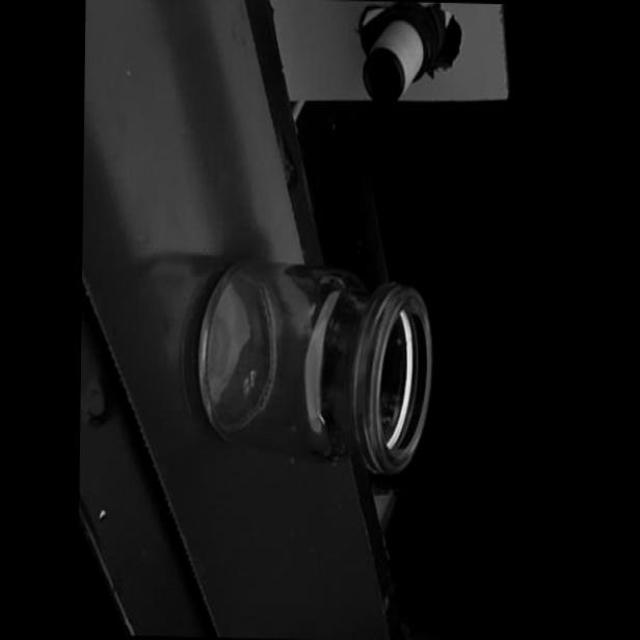defect: (313, 409, 324, 428)
glass: (192, 262, 434, 471)
